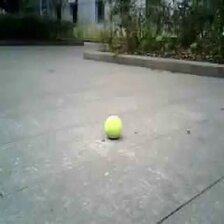tennis: (103, 115, 123, 137)
